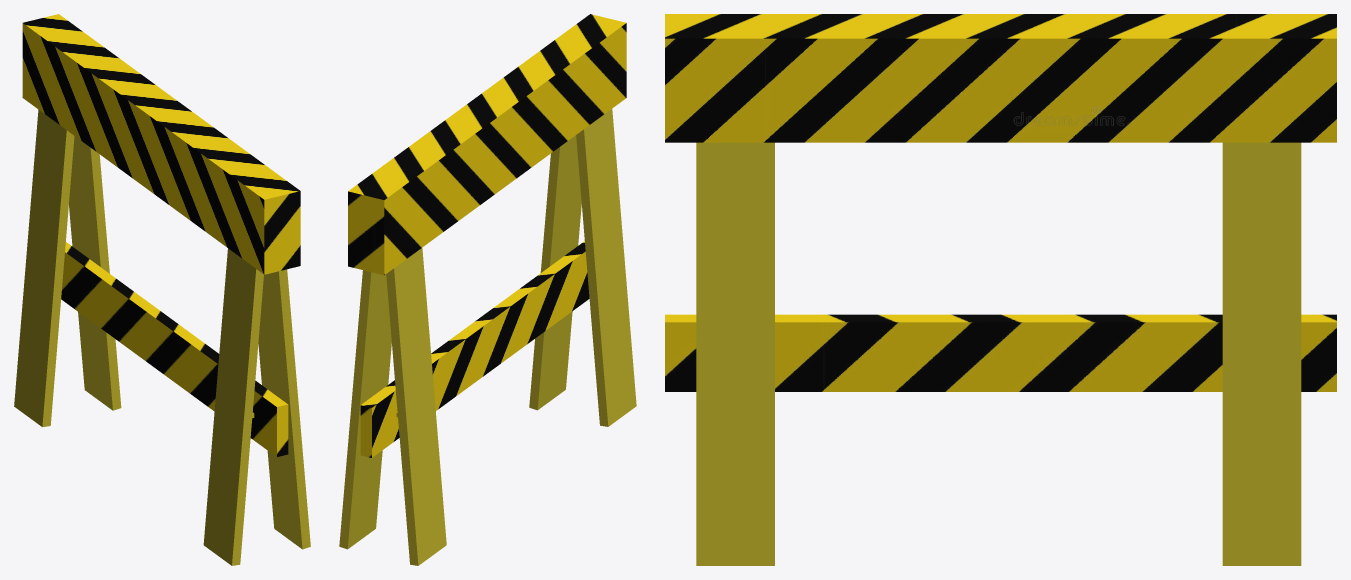
File: barrier.fbx
3 views of the same model, side by side, from view 1: azimuth 30°, elevation 25°; view 2: azimuth 150°, elevation 25°; view 3: azimuth 270°, elevation 25° (orthographic). The views are drawn at different scales.
Parts seen in each view (by area): view 1: Cube.006; view 2: Cube.006; view 3: Cube.006.
Part boxes in pixels (x1,y1,x2,y2): Cube.006: (14,14,310,565); Cube.006: (339,14,636,565); Cube.006: (665,14,1336,565).
Bounding box in the file's own units: 56.91 × 255 × 302.
2 materials, 1 textured.
